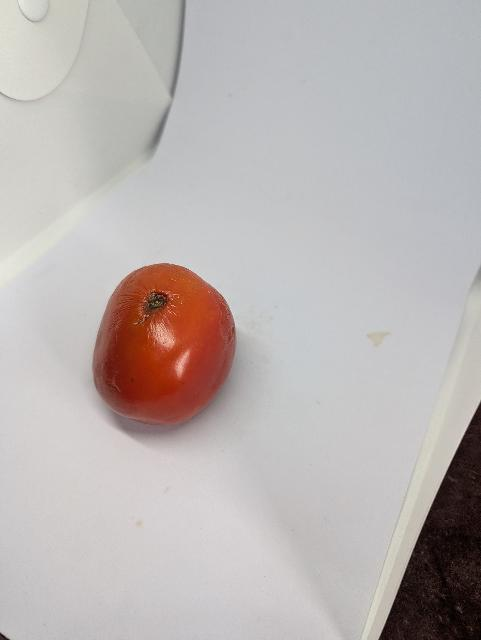defect: (90, 260, 241, 428)
